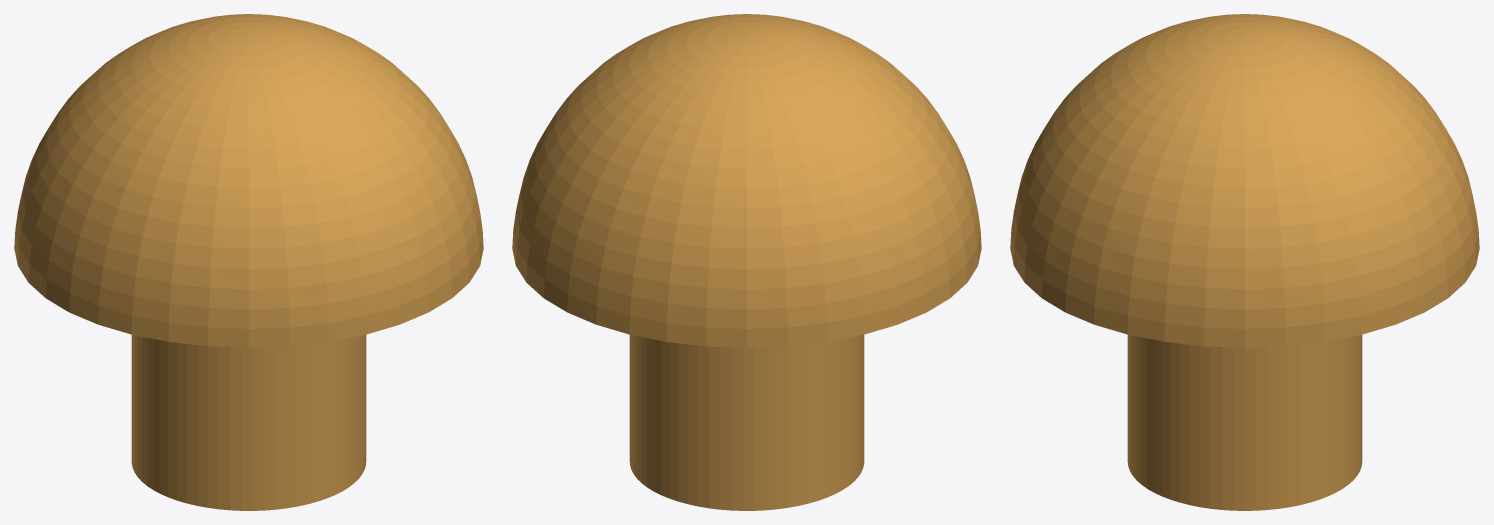
File: jad.glb
The picture shows the model from 3 angles, left to right: view 1: azimuth 30°, elevation 25°; view 2: azimuth 150°, elevation 25°; view 3: azimuth 270°, elevation 25°; orthographic projection.
Visible parts, largest first — view 1: Mesh_Mesh_head_geo.001_lambert2SG.001; view 2: Mesh_Mesh_head_geo.001_lambert2SG.001; view 3: Mesh_Mesh_head_geo.001_lambert2SG.001.
Boxes of the visible parts, x1=… form: Mesh_Mesh_head_geo.001_lambert2SG.001: x1=14, y1=14, x2=483, y2=510; Mesh_Mesh_head_geo.001_lambert2SG.001: x1=512, y1=14, x2=981, y2=510; Mesh_Mesh_head_geo.001_lambert2SG.001: x1=1010, y1=14, x2=1479, y2=510.
Bounding box in the file's own units: 4 × 4 × 4.
